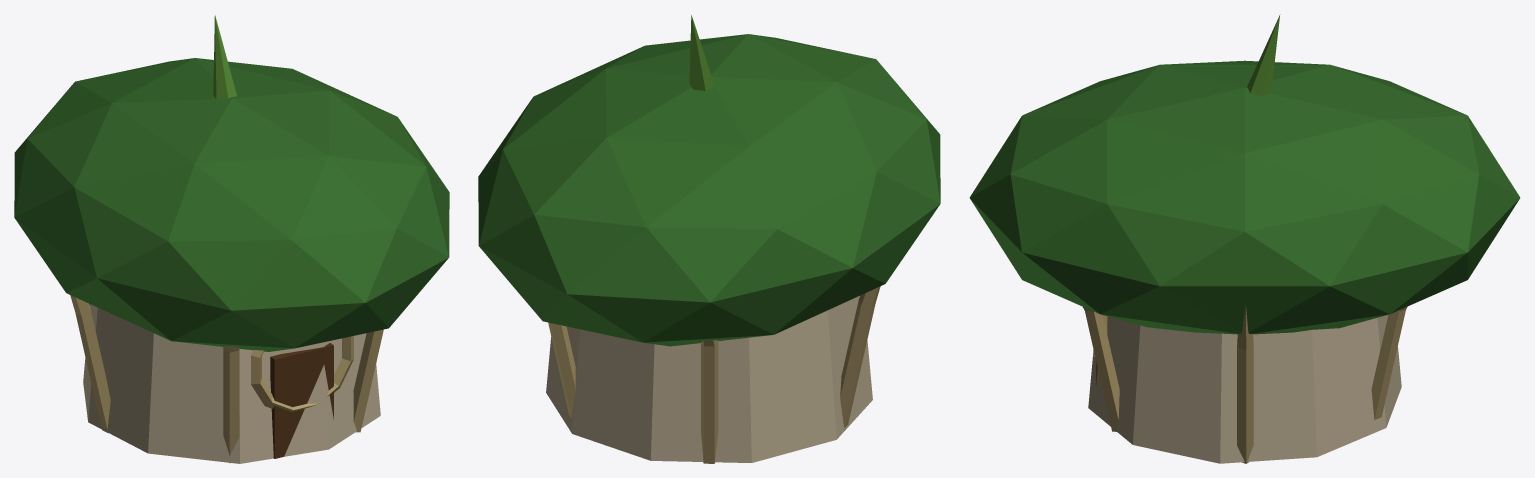
File: elf_house_a.glb
3 renders of one model, left to right at view 1: azimuth 30°, elevation 25°; view 2: azimuth 150°, elevation 25°; view 3: azimuth 270°, elevation 25°, orthographic. The views are drawn at different scales.
Parts seen in each view (by area): view 1: elf_house_a; view 2: elf_house_a; view 3: elf_house_a.
Part boxes in pixels (left/top/right/bottom): elf_house_a: left=14, top=15, right=449, bottom=463; elf_house_a: left=478, top=15, right=940, bottom=463; elf_house_a: left=969, top=14, right=1520, bottom=463.
Bounding box in the file's own units: 2.38 × 2.41 × 3.12.
